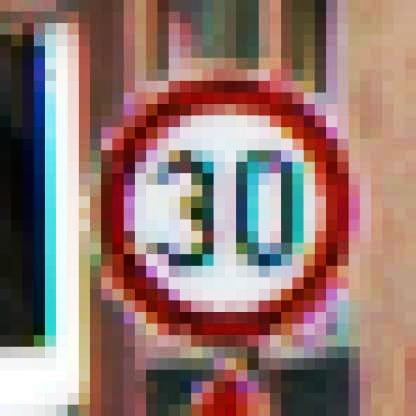Speed Limit -30-: (90, 69, 365, 347)
